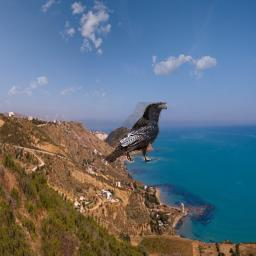Crow: (104, 102, 167, 163)
